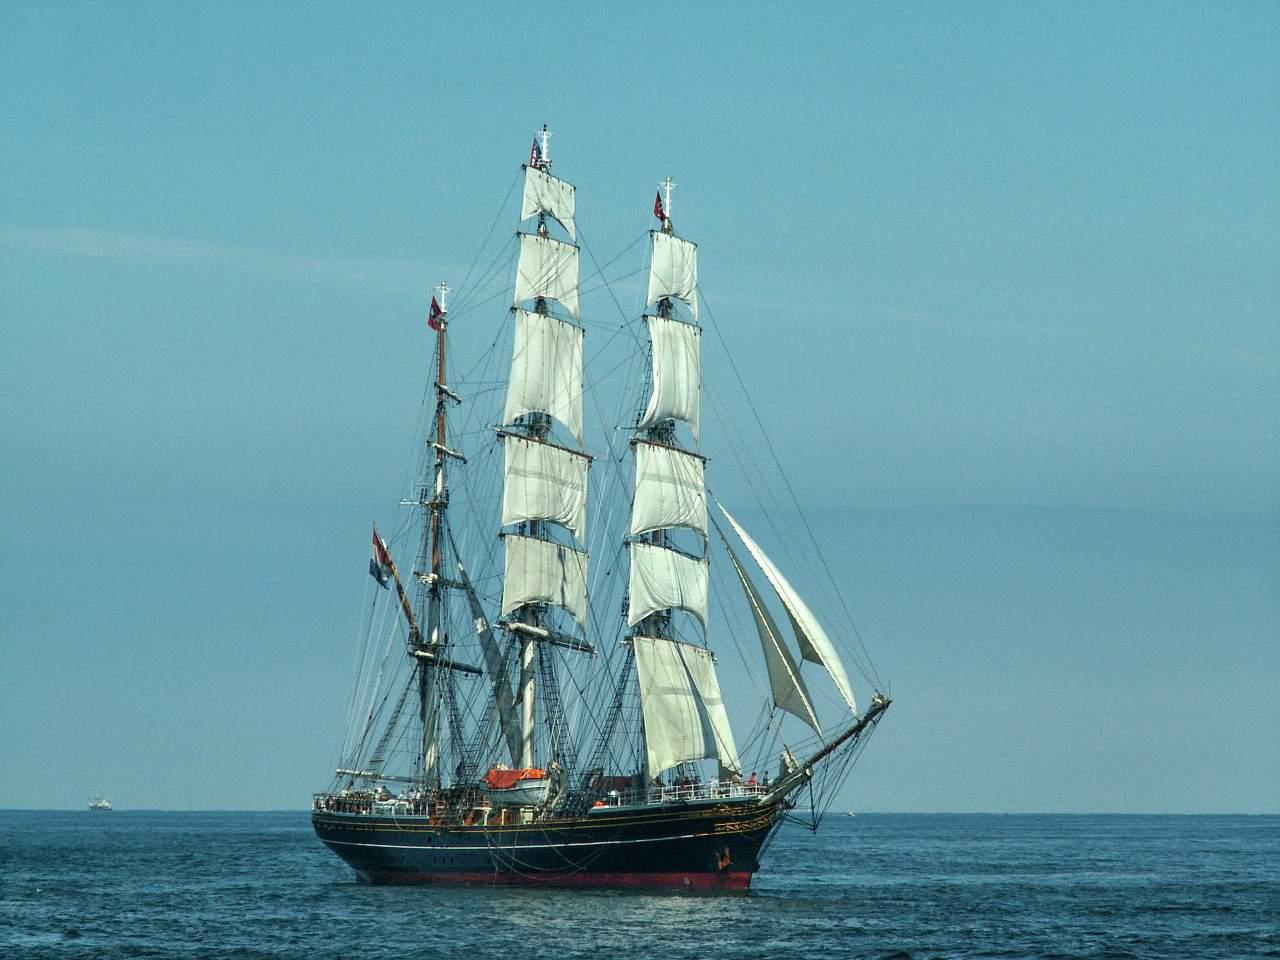Ship: (311, 126, 893, 892)
